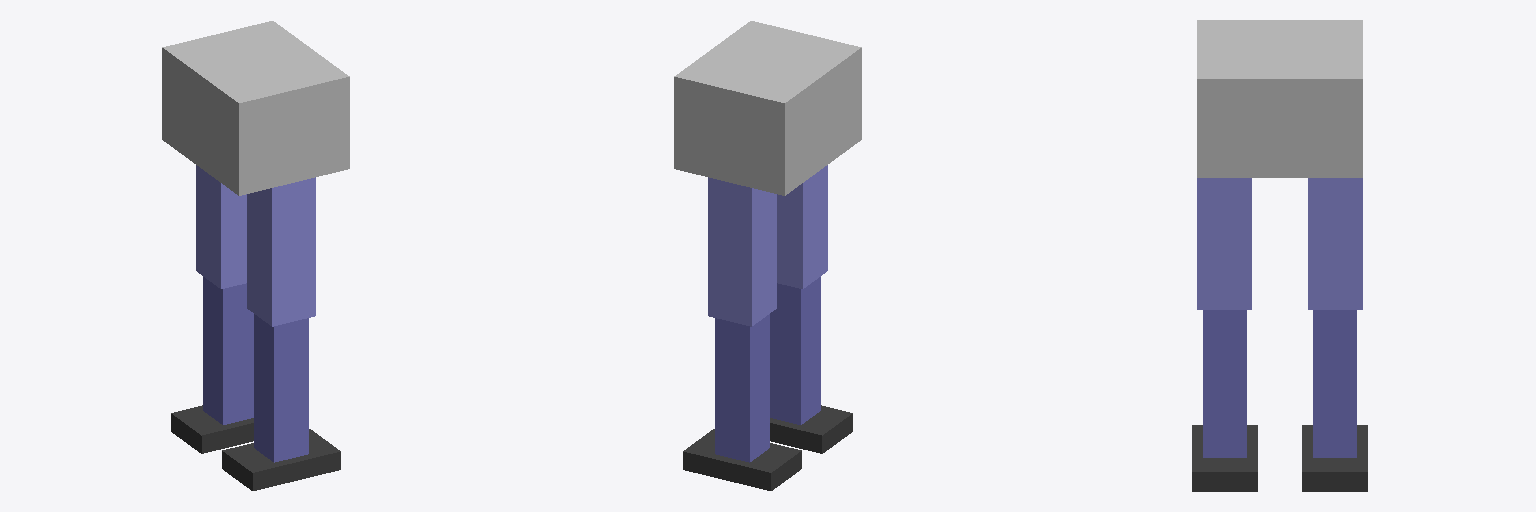
robot.urdf — simple_biped:
<?xml version="1.0"?>
<!--
Simple Bipedal Robot for Balance Control Testing
- 3 DOF per leg (hip pitch, knee, ankle pitch)
- Large feet for stability
- Low center of mass
- Realistic mass distribution
-->
<robot name="simple_biped">

  <!-- Base/Torso Link -->
  <link name="torso">
    <inertial>
      <origin xyz="0 0 0" rpy="0 0 0"/>
      <mass value="5.0"/>
      <inertia ixx="0.05" ixy="0" ixz="0" iyy="0.05" iyz="0" izz="0.02"/>
    </inertial>
    <visual>
      <origin xyz="0 0 0" rpy="0 0 0"/>
      <geometry>
        <box size="0.25 0.30 0.20"/>
      </geometry>
      <material name="torso_color">
        <color rgba="0.8 0.8 0.8 1"/>
      </material>
    </visual>
    <collision>
      <origin xyz="0 0 0" rpy="0 0 0"/>
      <geometry>
        <box size="0.25 0.30 0.20"/>
      </geometry>
    </collision>
  </link>

  <!-- ========== LEFT LEG ========== -->

  <!-- Left Hip Joint (pitch only for simplicity) -->
  <joint name="left_hip_pitch" type="revolute">
    <origin xyz="0 0.10 -0.10" rpy="0 0 0"/>
    <parent link="torso"/>
    <child link="left_thigh"/>
    <axis xyz="0 1 0"/>
    <limit lower="-1.57" upper="1.57" effort="300.0" velocity="10.0"/>
    <dynamics damping="1.0" friction="0.5"/>
  </joint>

  <link name="left_thigh">
    <inertial>
      <origin xyz="0 0 -0.15" rpy="0 0 0"/>
      <mass value="1.5"/>
      <inertia ixx="0.015" ixy="0" ixz="0" iyy="0.015" iyz="0" izz="0.002"/>
    </inertial>
    <visual>
      <origin xyz="0 0 -0.15" rpy="0 0 0"/>
      <geometry>
        <box size="0.10 0.10 0.30"/>
      </geometry>
      <material name="thigh_color">
        <color rgba="0.6 0.6 0.9 1"/>
      </material>
    </visual>
    <collision>
      <origin xyz="0 0 -0.15" rpy="0 0 0"/>
      <geometry>
        <box size="0.10 0.10 0.30"/>
      </geometry>
    </collision>
  </link>

  <!-- Left Knee Joint -->
  <joint name="left_knee" type="revolute">
    <origin xyz="0 0 -0.30" rpy="0 0 0"/>
    <parent link="left_thigh"/>
    <child link="left_shin"/>
    <axis xyz="0 1 0"/>
    <limit lower="0.0" upper="2.5" effort="300.0" velocity="10.0"/>
    <dynamics damping="1.0" friction="0.5"/>
  </joint>

  <link name="left_shin">
    <inertial>
      <origin xyz="0 0 -0.15" rpy="0 0 0"/>
      <mass value="1.0"/>
      <inertia ixx="0.010" ixy="0" ixz="0" iyy="0.010" iyz="0" izz="0.001"/>
    </inertial>
    <visual>
      <origin xyz="0 0 -0.15" rpy="0 0 0"/>
      <geometry>
        <box size="0.08 0.08 0.30"/>
      </geometry>
      <material name="shin_color">
        <color rgba="0.5 0.5 0.8 1"/>
      </material>
    </visual>
    <collision>
      <origin xyz="0 0 -0.15" rpy="0 0 0"/>
      <geometry>
        <box size="0.08 0.08 0.30"/>
      </geometry>
    </collision>
  </link>

  <!-- Left Ankle Joint -->
  <joint name="left_ankle_pitch" type="revolute">
    <origin xyz="0 0 -0.30" rpy="0 0 0"/>
    <parent link="left_shin"/>
    <child link="left_foot"/>
    <axis xyz="0 1 0"/>
    <limit lower="-0.8" upper="0.8" effort="300.0" velocity="10.0"/>
    <dynamics damping="0.5" friction="0.3"/>
  </joint>

  <link name="left_foot">
    <inertial>
      <origin xyz="0 0 -0.02" rpy="0 0 0"/>
      <mass value="0.5"/>
      <inertia ixx="0.002" ixy="0" ixz="0" iyy="0.005" iyz="0" izz="0.004"/>
    </inertial>
    <visual>
      <origin xyz="0 0 -0.02" rpy="0 0 0"/>
      <geometry>
        <box size="0.20 0.12 0.04"/>
      </geometry>
      <material name="foot_color">
        <color rgba="0.3 0.3 0.3 1"/>
      </material>
    </visual>
    <collision>
      <origin xyz="0 0 -0.02" rpy="0 0 0"/>
      <geometry>
        <box size="0.20 0.12 0.04"/>
      </geometry>
    </collision>
  </link>

  <!-- ========== RIGHT LEG ========== -->

  <!-- Right Hip Joint (pitch only) -->
  <joint name="right_hip_pitch" type="revolute">
    <origin xyz="0 -0.10 -0.10" rpy="0 0 0"/>
    <parent link="torso"/>
    <child link="right_thigh"/>
    <axis xyz="0 1 0"/>
    <limit lower="-1.57" upper="1.57" effort="300.0" velocity="10.0"/>
    <dynamics damping="1.0" friction="0.5"/>
  </joint>

  <link name="right_thigh">
    <inertial>
      <origin xyz="0 0 -0.15" rpy="0 0 0"/>
      <mass value="1.5"/>
      <inertia ixx="0.015" ixy="0" ixz="0" iyy="0.015" iyz="0" izz="0.002"/>
    </inertial>
    <visual>
      <origin xyz="0 0 -0.15" rpy="0 0 0"/>
      <geometry>
        <box size="0.10 0.10 0.30"/>
      </geometry>
      <material name="thigh_color">
        <color rgba="0.6 0.6 0.9 1"/>
      </material>
    </visual>
    <collision>
      <origin xyz="0 0 -0.15" rpy="0 0 0"/>
      <geometry>
        <box size="0.10 0.10 0.30"/>
      </geometry>
    </collision>
  </link>

  <!-- Right Knee Joint -->
  <joint name="right_knee" type="revolute">
    <origin xyz="0 0 -0.30" rpy="0 0 0"/>
    <parent link="right_thigh"/>
    <child link="right_shin"/>
    <axis xyz="0 1 0"/>
    <limit lower="0.0" upper="2.5" effort="300.0" velocity="10.0"/>
    <dynamics damping="1.0" friction="0.5"/>
  </joint>

  <link name="right_shin">
    <inertial>
      <origin xyz="0 0 -0.15" rpy="0 0 0"/>
      <mass value="1.0"/>
      <inertia ixx="0.010" ixy="0" ixz="0" iyy="0.010" iyz="0" izz="0.001"/>
    </inertial>
    <visual>
      <origin xyz="0 0 -0.15" rpy="0 0 0"/>
      <geometry>
        <box size="0.08 0.08 0.30"/>
      </geometry>
      <material name="shin_color">
        <color rgba="0.5 0.5 0.8 1"/>
      </material>
    </visual>
    <collision>
      <origin xyz="0 0 -0.15" rpy="0 0 0"/>
      <geometry>
        <box size="0.08 0.08 0.30"/>
      </geometry>
    </collision>
  </link>

  <!-- Right Ankle Joint -->
  <joint name="right_ankle_pitch" type="revolute">
    <origin xyz="0 0 -0.30" rpy="0 0 0"/>
    <parent link="right_shin"/>
    <child link="right_foot"/>
    <axis xyz="0 1 0"/>
    <limit lower="-0.8" upper="0.8" effort="300.0" velocity="10.0"/>
    <dynamics damping="0.5" friction="0.3"/>
  </joint>

  <link name="right_foot">
    <inertial>
      <origin xyz="0 0 -0.02" rpy="0 0 0"/>
      <mass value="0.5"/>
      <inertia ixx="0.002" ixy="0" ixz="0" iyy="0.005" iyz="0" izz="0.004"/>
    </inertial>
    <visual>
      <origin xyz="0 0 -0.02" rpy="0 0 0"/>
      <geometry>
        <box size="0.20 0.12 0.04"/>
      </geometry>
      <material name="foot_color">
        <color rgba="0.3 0.3 0.3 1"/>
      </material>
    </visual>
    <collision>
      <origin xyz="0 0 -0.02" rpy="0 0 0"/>
      <geometry>
        <box size="0.20 0.12 0.04"/>
      </geometry>
    </collision>
  </link>

</robot>

--- Facts derived from the render (not from the file) ---
3 views of the same robot in one strip: view 1: azimuth 30°, elevation 25°; view 2: azimuth 150°, elevation 25°; view 3: azimuth 270°, elevation 25° (orthographic).
Robot: simple_biped — 7 links, 6 joints (6 revolute); root link torso; default pose: every joint at zero.
Links seen in each view (by area): view 1: torso, right_thigh, right_shin, left_shin, left_thigh, right_foot, left_foot; view 2: torso, left_thigh, left_shin, right_shin, right_thigh, left_foot, right_foot; view 3: torso, left_thigh, right_thigh, left_shin, right_shin, left_foot, right_foot.
Boxes of the visible links, <box> form: torso: <box>162,21,349,195</box>; right_thigh: <box>247,177,315,326</box>; right_shin: <box>254,314,308,462</box>; left_shin: <box>203,277,253,424</box>; left_thigh: <box>196,165,246,288</box>; right_foot: <box>222,429,340,490</box>; left_foot: <box>171,405,253,453</box>; torso: <box>674,21,861,195</box>; left_thigh: <box>708,177,776,326</box>; left_shin: <box>715,314,769,462</box>; right_shin: <box>770,277,820,424</box>; right_thigh: <box>777,165,827,288</box>; left_foot: <box>683,429,801,490</box>; right_foot: <box>770,405,852,453</box>; torso: <box>1197,20,1362,177</box>; left_thigh: <box>1308,178,1362,309</box>; right_thigh: <box>1197,178,1251,309</box>; left_shin: <box>1313,310,1356,457</box>; right_shin: <box>1203,310,1246,457</box>; left_foot: <box>1302,425,1367,491</box>; right_foot: <box>1192,425,1257,491</box>.
Bounding box of the posed robot: 0.25 × 0.32 × 0.84 m (x, y, z).
Geometry: primitives only (box / cylinder / sphere), no mesh files.
